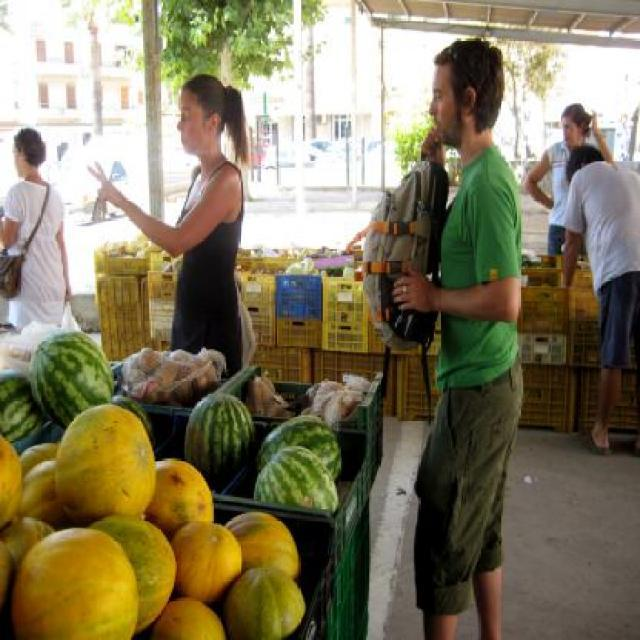Watermelon: (28, 326, 112, 426), (182, 388, 258, 490), (252, 443, 341, 520), (259, 419, 343, 481), (1, 368, 42, 444), (109, 398, 154, 440)
